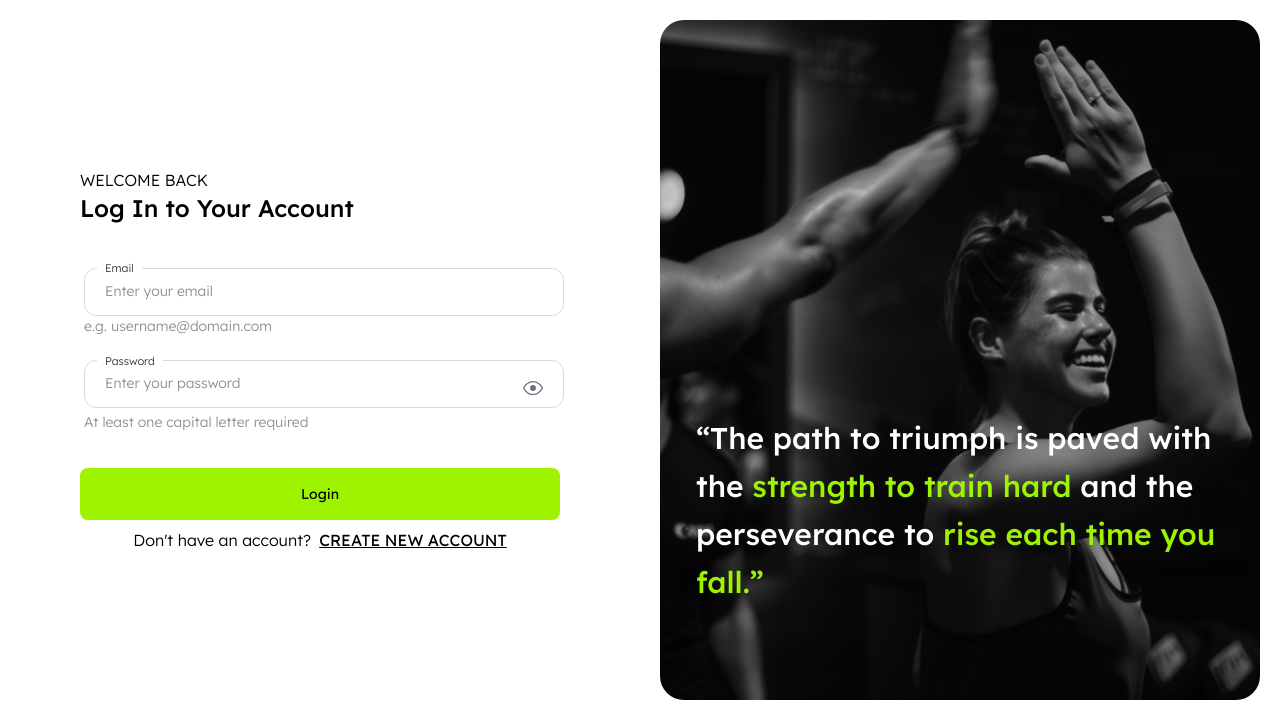
LoginPage Component › validates form inputs and displays error messages
The width and height of the screenshot is (1280, 720).
Submit the form without filling in any fields
Click the button "Login": (320, 494) [80,468,560,520]
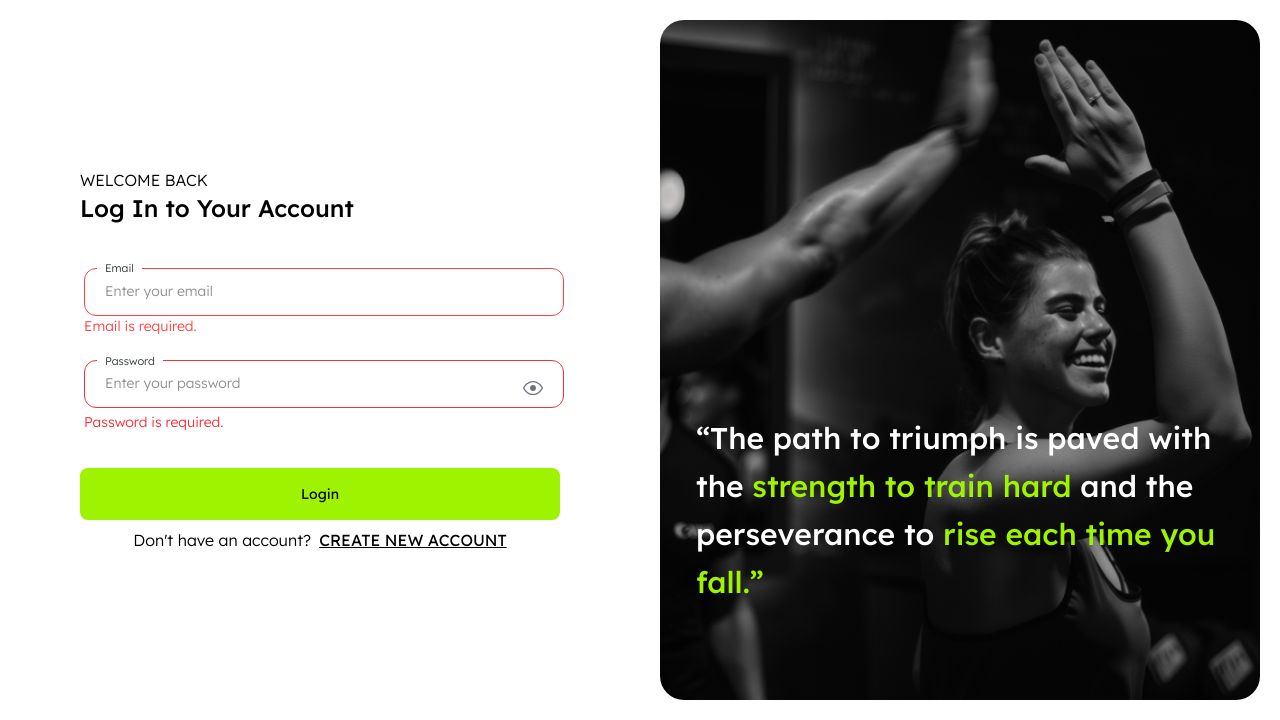
Expected: the message "Password is required." is shown, [84,413,223,431]
